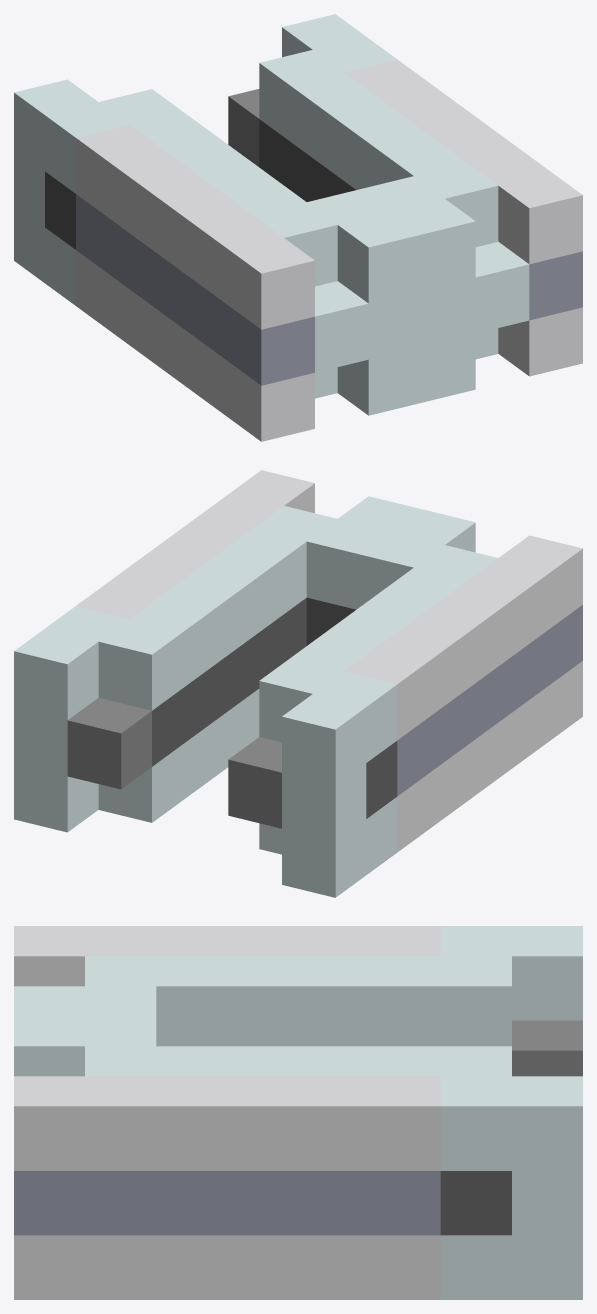
Rendered from Medieval Assets-212-Crafting - Table - Armor - Leggings.obj.
3 renders of one model, top to bottom at view 1: azimuth 30°, elevation 25°; view 2: azimuth 150°, elevation 25°; view 3: azimuth 270°, elevation 25°, orthographic. The views are drawn at different scales.
Visible parts, largest first — view 1: Crafting - Table - Armor - Leggings; view 2: Crafting - Table - Armor - Leggings; view 3: Crafting - Table - Armor - Leggings.
Part boxes in pixels (bbox=[...]): Crafting - Table - Armor - Leggings: bbox=[14, 14, 582, 441]; Crafting - Table - Armor - Leggings: bbox=[14, 470, 582, 897]; Crafting - Table - Armor - Leggings: bbox=[14, 926, 582, 1299].
Bounding box in the file's own units: 0.6 × 0.3 × 0.8.
1 material, 1 textured.
